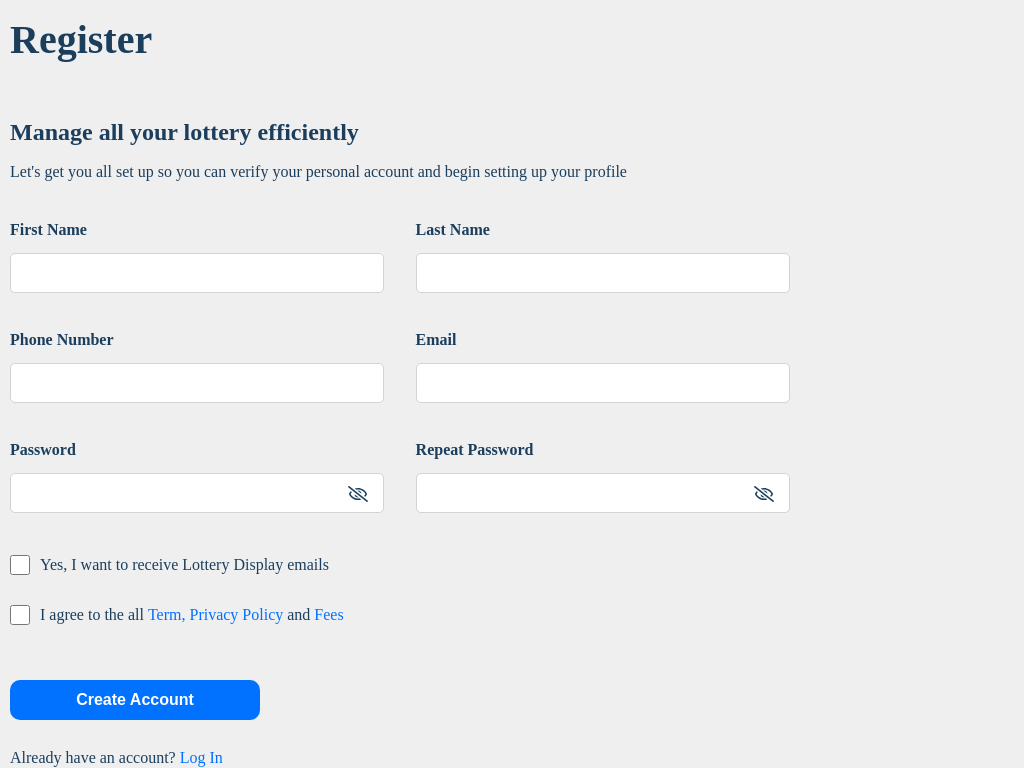
Test: registration-form tests › actions tests › should show 7 errors on submit if form is empty
This screenshot has width=1024, height=768.
Click the button with class "registration-form__submit": click(135, 700) [10,680,260,720]
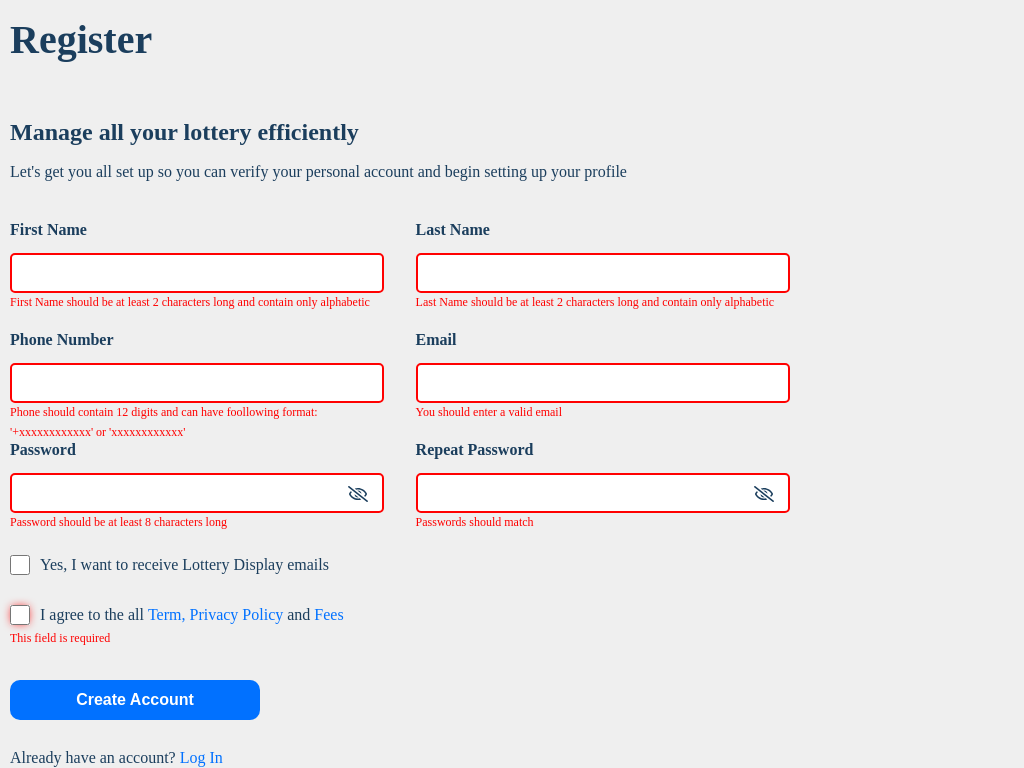
Expected: the text "This field is required" is shown, [10,632,110,644]
